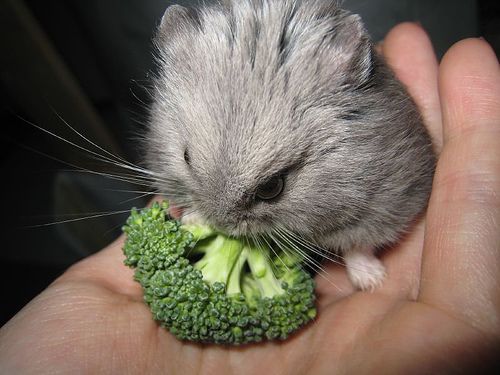broccoli: (120, 199, 318, 347)
